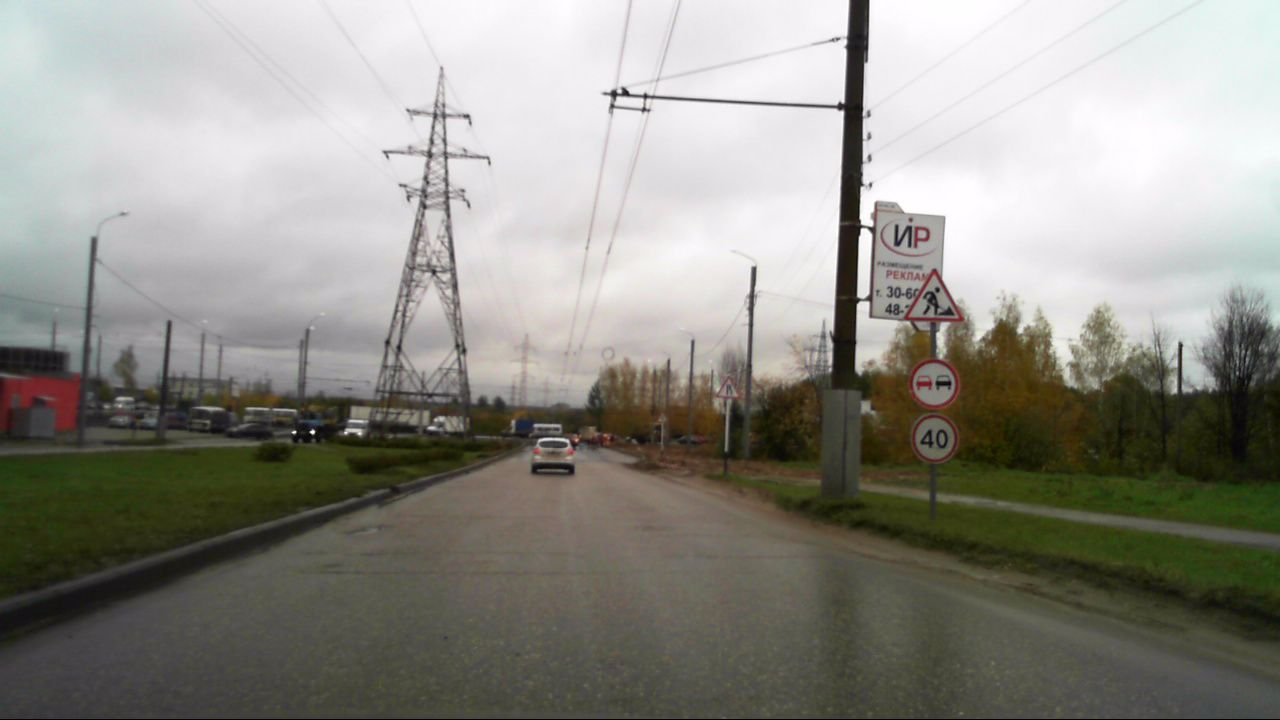speed_warning_40: (910, 413, 961, 464)
